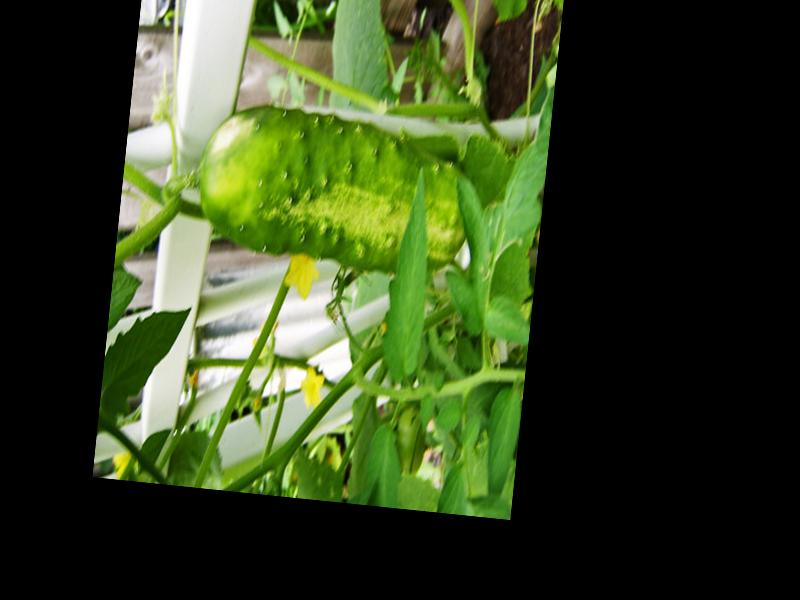Cucumber: (191, 101, 474, 274)
